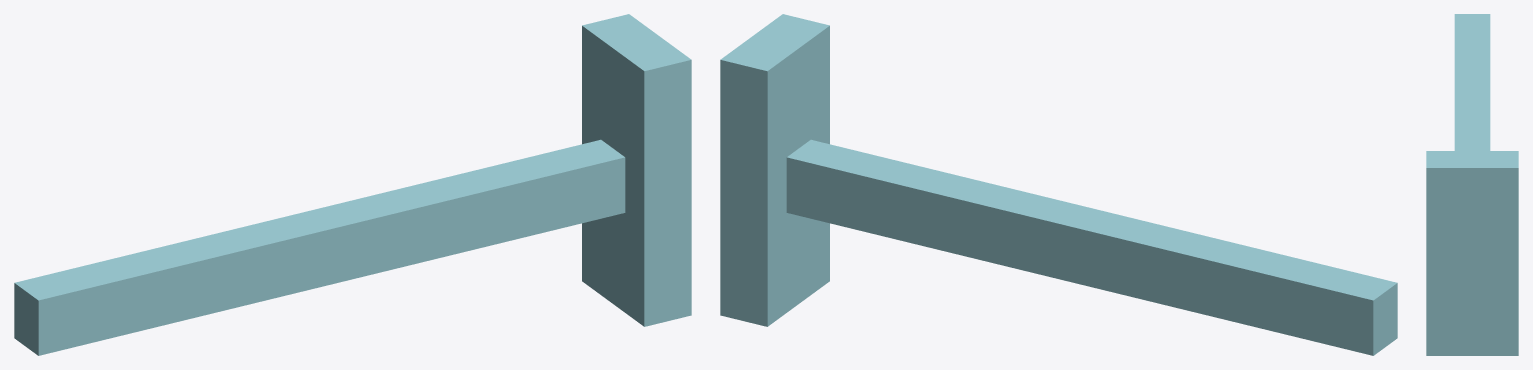
File: cuboid_hammer_v008.obj
The picture shows the model from 3 angles, left to right: view 1: azimuth 30°, elevation 25°; view 2: azimuth 150°, elevation 25°; view 3: azimuth 270°, elevation 25°; orthographic projection. The views are drawn at different scales.
Size of the model in its own units: 0.2727 by 0.1051 by 0.0466.
Materials: 1 (1 with a texture image).
